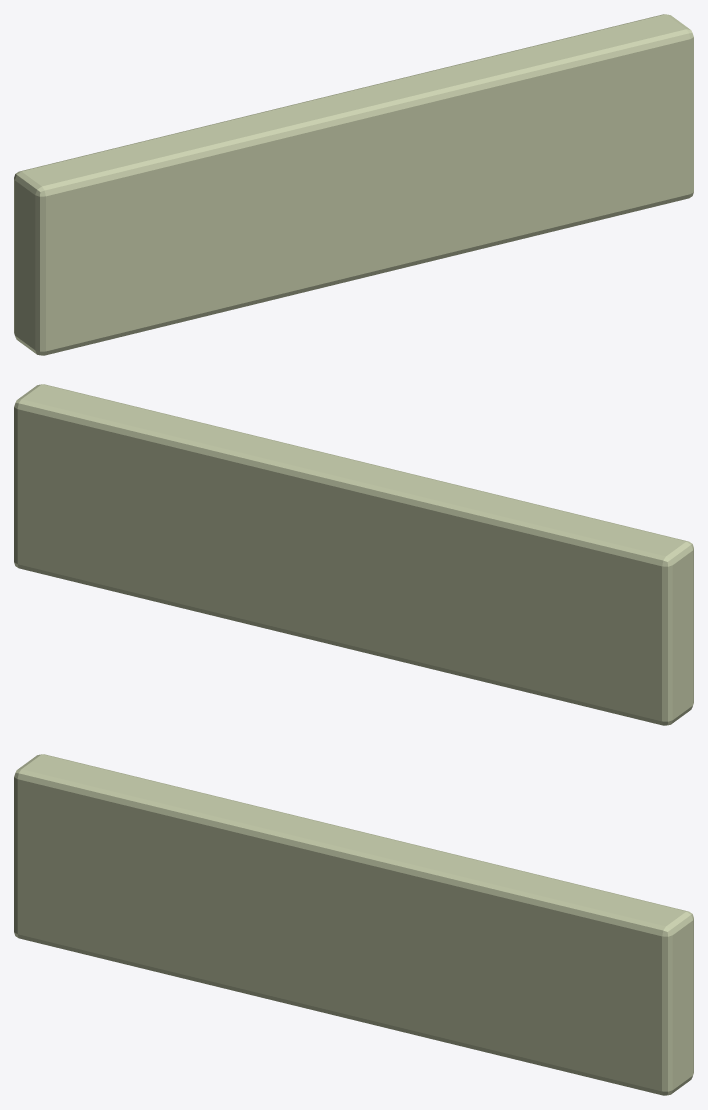
The model's file is wall_knee_2m__finish.glb.
3 views of the same model, one above another, from view 1: azimuth 30°, elevation 25°; view 2: azimuth 150°, elevation 25°; view 3: azimuth 330°, elevation 25° (orthographic).
Visible parts, largest first — view 1: wall_knee_2m__finish__mesh_00; view 2: wall_knee_2m__finish__mesh_00; view 3: wall_knee_2m__finish__mesh_00.
Boxes of the visible parts, <box> form: wall_knee_2m__finish__mesh_00: <box>14,14,693,355</box>; wall_knee_2m__finish__mesh_00: <box>14,384,693,725</box>; wall_knee_2m__finish__mesh_00: <box>14,754,693,1095</box>.
Size of the model in its own units: 1.75 by 0.43 by 0.13.
